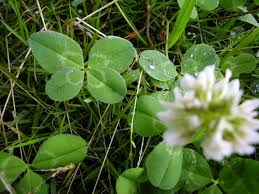4-clover: (30, 31, 133, 105)
